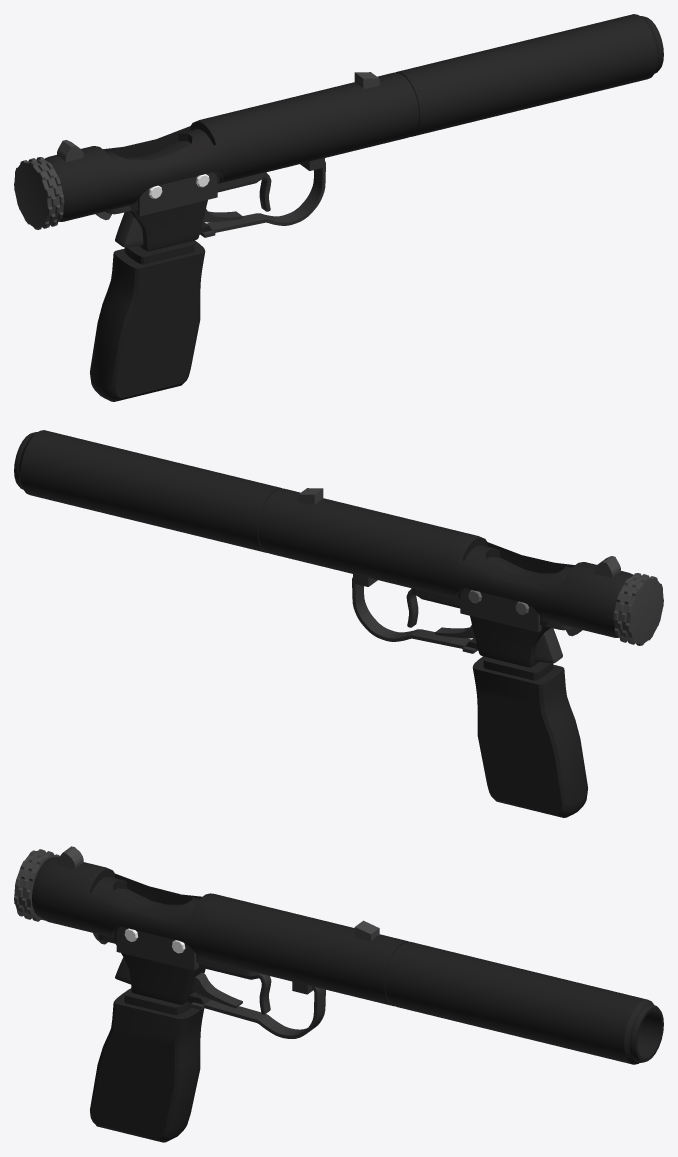
The model's file is Weldrod_Mark1_Mesh.fbx.
3 views of the same model, one above another, from view 1: azimuth 30°, elevation 25°; view 2: azimuth 150°, elevation 25°; view 3: azimuth 330°, elevation 25° (orthographic).
Visible parts, largest first — view 1: Weldrod_Mark1; view 2: Weldrod_Mark1; view 3: Weldrod_Mark1.
Part boxes in pixels (x1,y1,x2,y2): Weldrod_Mark1: [14, 14, 663, 401]; Weldrod_Mark1: [14, 430, 663, 817]; Weldrod_Mark1: [14, 846, 663, 1142].
Size of the model in its own units: 0.4178 by 0.1702 by 0.0415.
